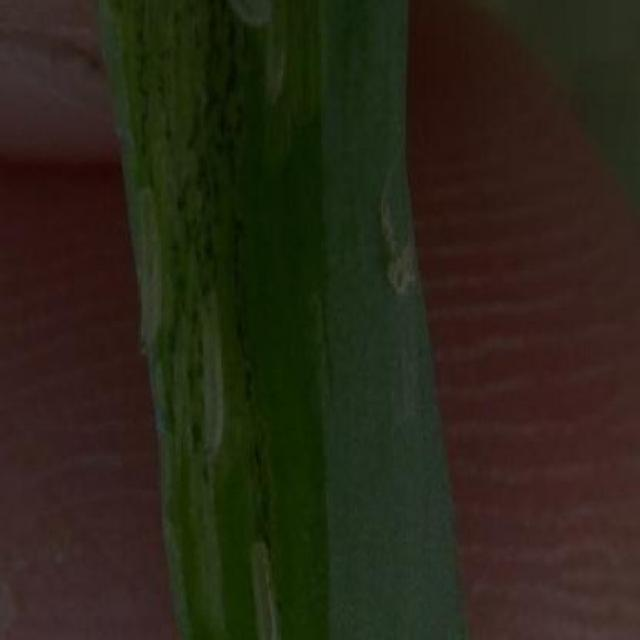whorl-maggot: (132, 172, 160, 360), (198, 283, 224, 471), (246, 535, 282, 640), (260, 1, 292, 117)
